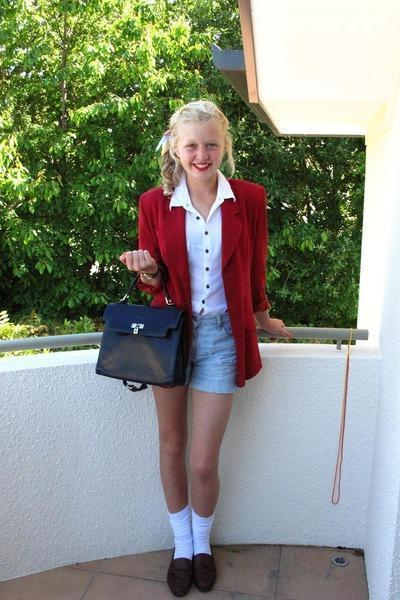Shorts: (144, 306, 246, 397)
jacket: (134, 177, 275, 392)
short sleeve shirt: (164, 168, 236, 316)
